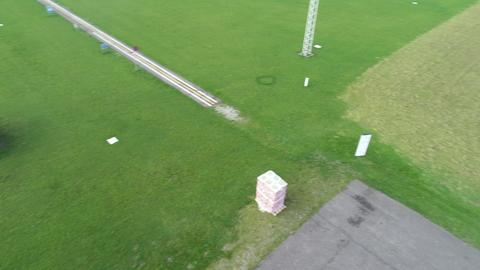RockwoolPallet: (255, 170, 289, 215)
